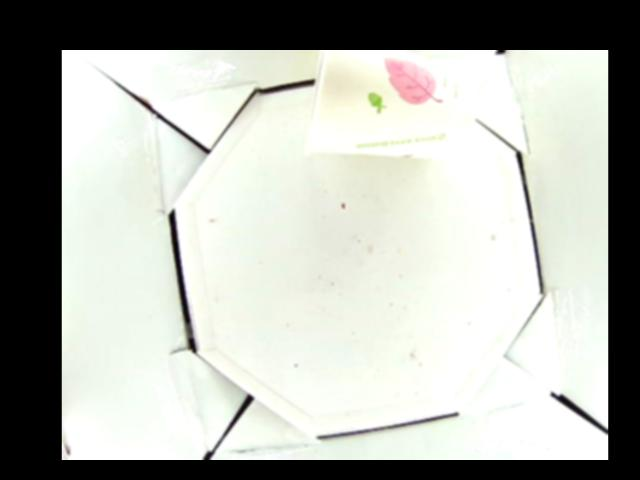Cup: (305, 50, 479, 158)
